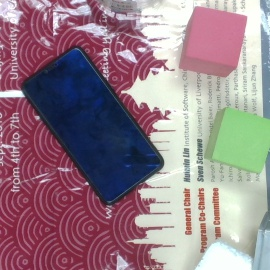phone: (22, 47, 164, 206)
